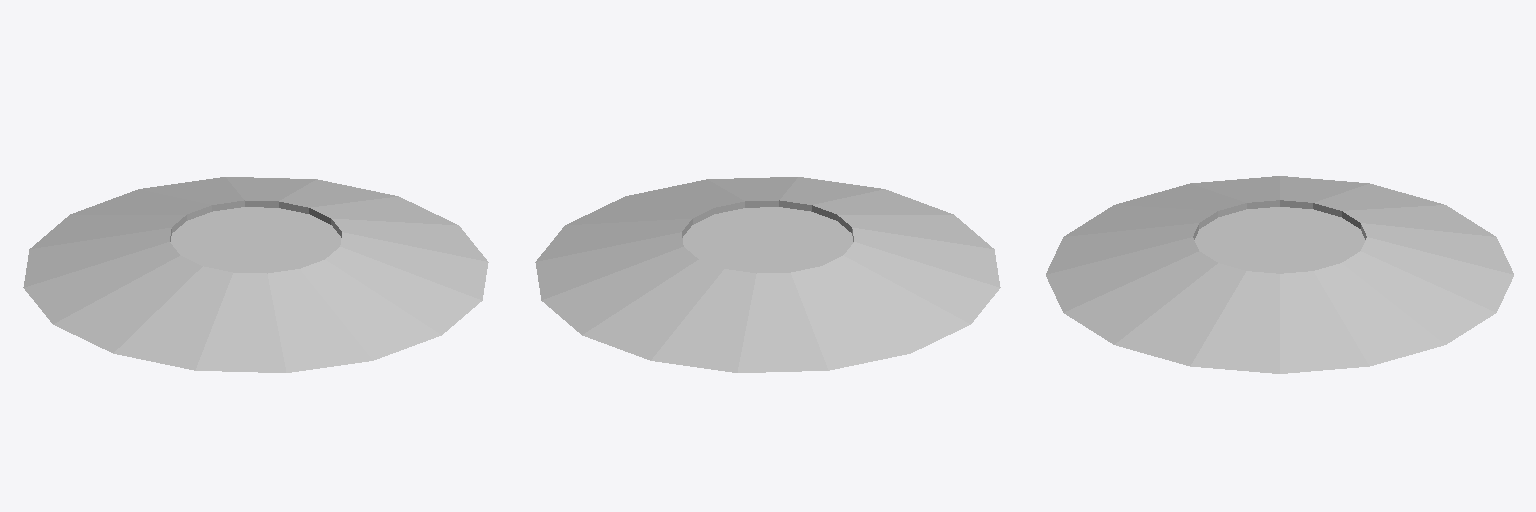
File: eco_vent.obj
The picture shows the model from 3 angles: view 1: azimuth 30°, elevation 25°; view 2: azimuth 150°, elevation 25°; view 3: azimuth 270°, elevation 25°; orthographic projection.
Visible parts, largest first — view 1: Cylinder.001; view 2: Cylinder.001; view 3: Cylinder.001.
Part boxes in pixels (bbox=[...]): Cylinder.001: bbox=[23, 177, 488, 372]; Cylinder.001: bbox=[535, 177, 1000, 372]; Cylinder.001: bbox=[1046, 176, 1513, 373].
Size of the model in its own units: 6.57 by 0.5869 by 6.57.